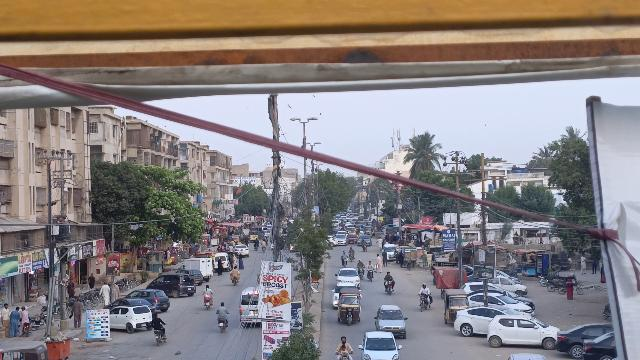Bike: (150, 326, 168, 348), (416, 293, 432, 314), (214, 317, 230, 334), (18, 322, 32, 338), (383, 280, 396, 297), (201, 297, 213, 310), (337, 352, 352, 360)
Car: (485, 311, 559, 351), (453, 305, 510, 338), (373, 301, 409, 341), (358, 330, 403, 360), (146, 273, 198, 298), (108, 304, 151, 332), (129, 287, 171, 310)
Person: (71, 296, 83, 329), (97, 279, 111, 307), (9, 306, 21, 337), (337, 333, 353, 352), (151, 312, 166, 329), (215, 301, 229, 317), (20, 305, 32, 323), (419, 281, 431, 297), (202, 283, 214, 298), (382, 270, 396, 282), (0, 301, 10, 317)
Rickshaw: (336, 287, 364, 326), (441, 288, 469, 326)
Truck: (182, 258, 214, 280)
Van: (237, 286, 259, 328)
